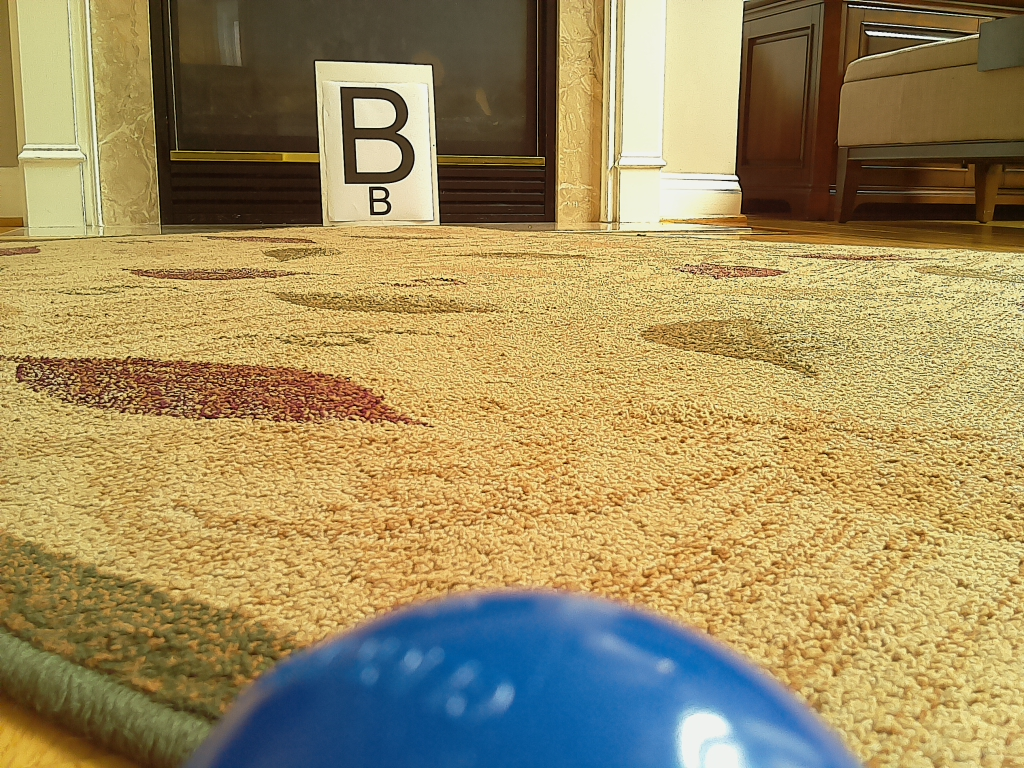letter: (340, 87, 416, 185)
